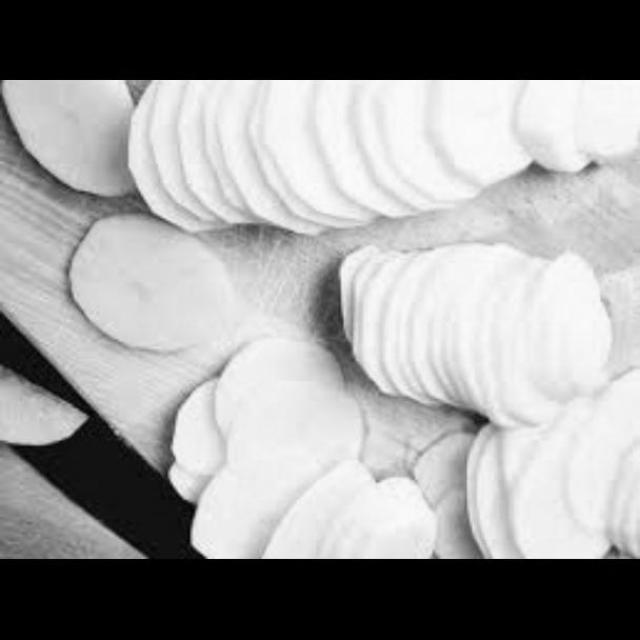khoai tay: (121, 81, 639, 247), (308, 228, 639, 432), (171, 344, 412, 560), (409, 395, 639, 561), (60, 232, 237, 357), (5, 82, 151, 198), (0, 371, 101, 461)
